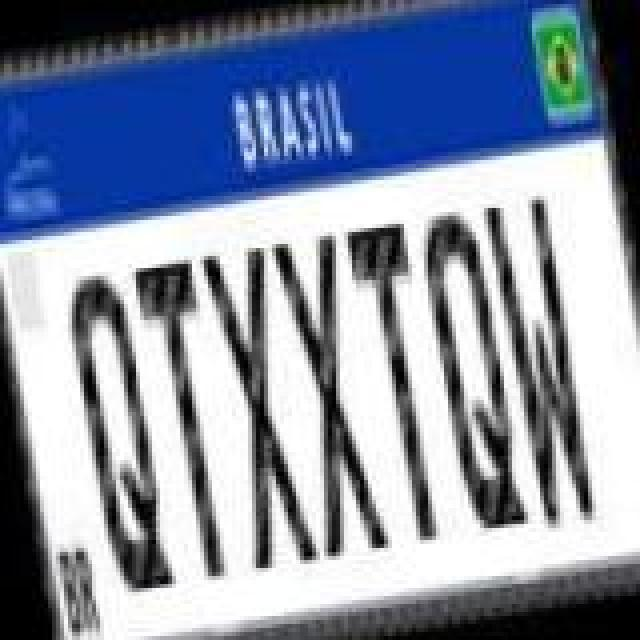Q: (56, 264, 176, 600), (410, 202, 530, 538)
T: (130, 252, 246, 588), (340, 214, 456, 550)
W: (476, 186, 600, 534)
X: (196, 236, 320, 576), (268, 224, 392, 560)
